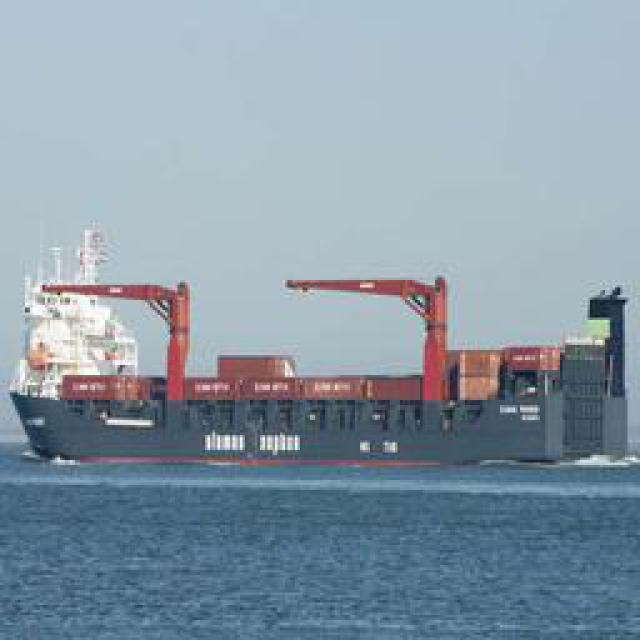Ship: (2, 271, 637, 476)
